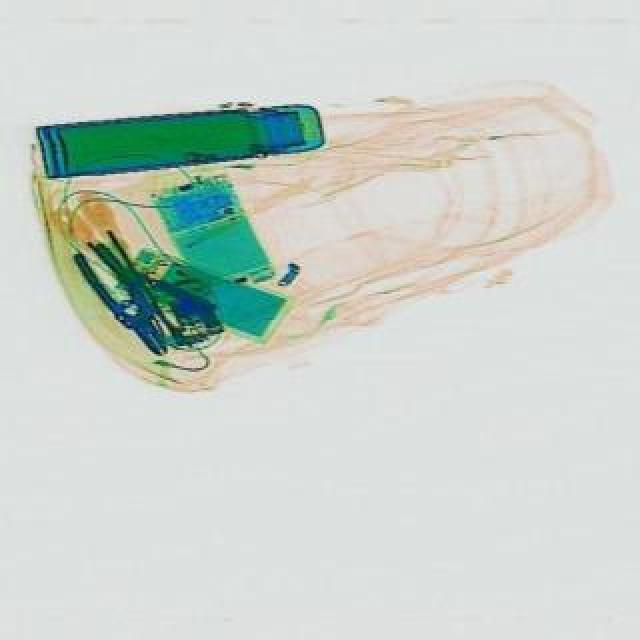wrench: (72, 240, 186, 368)
